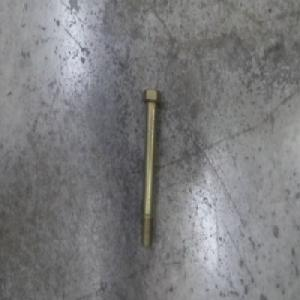Bolt: (140, 85, 162, 250)
